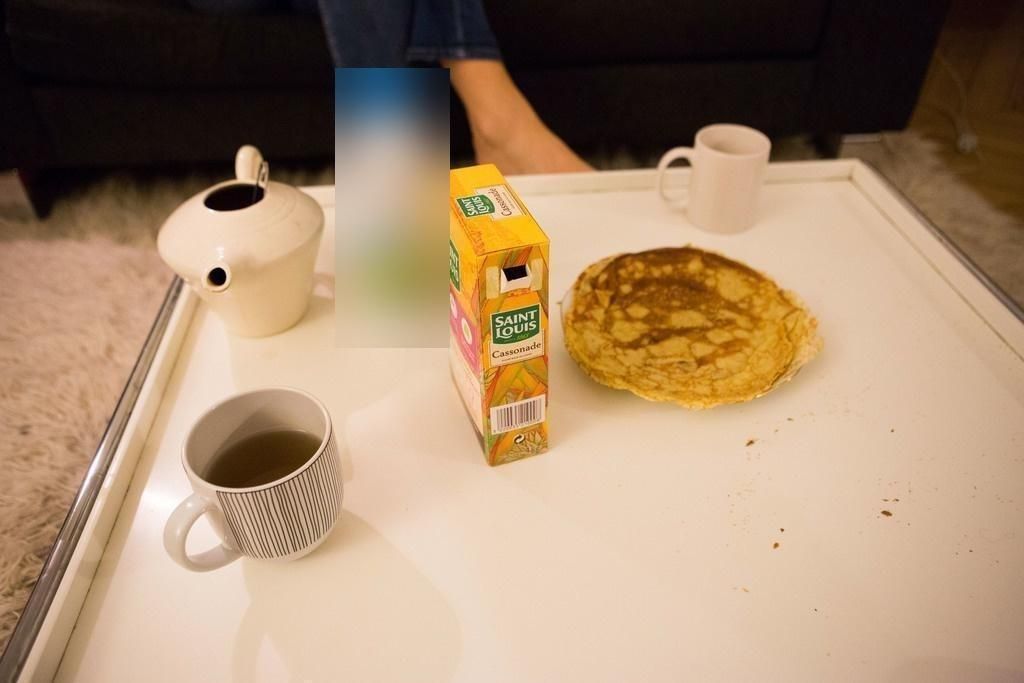cup-handle: (160, 385, 345, 572), (655, 119, 772, 234)
